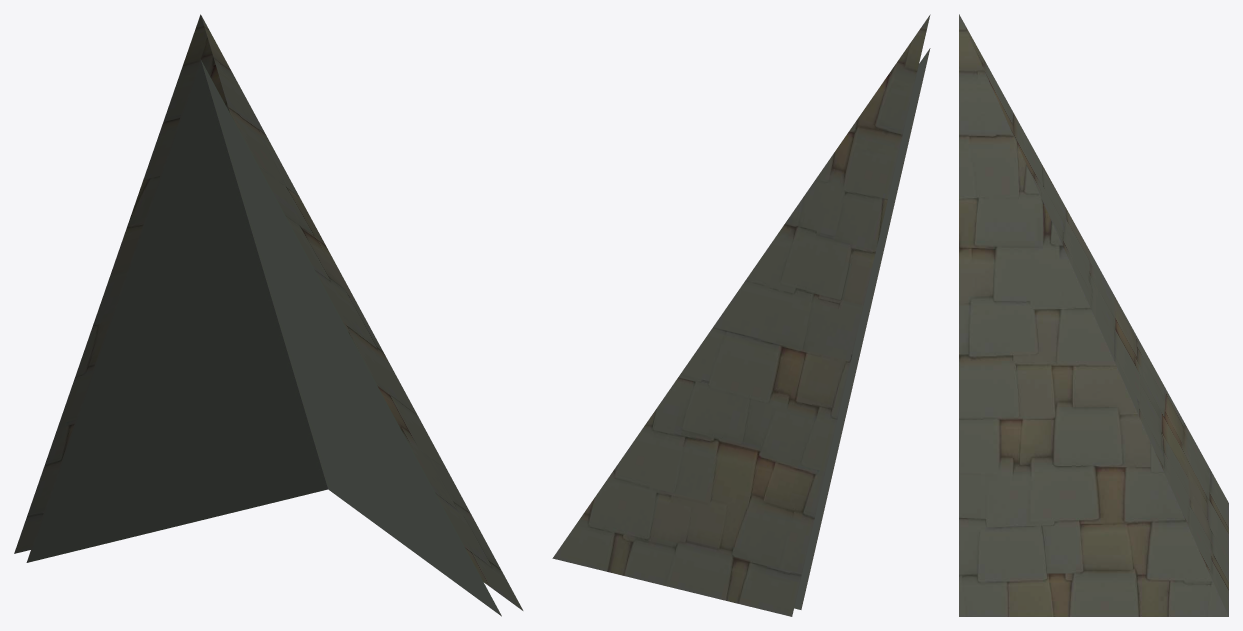
The model's file is ARC0510011.fbx.
3 renders of one model, left to right at view 1: azimuth 30°, elevation 25°; view 2: azimuth 150°, elevation 25°; view 3: azimuth 270°, elevation 25°, orthographic. The views are drawn at different scales.
Parts seen in each view (by area): view 1: smARC0510011; view 2: smARC0510011; view 3: smARC0510011.
Boxes of the visible parts, <box> form: smARC0510011: <box>14,14,523,616</box>; smARC0510011: <box>552,14,930,616</box>; smARC0510011: <box>959,14,1228,616</box>.
Size of the model in its own units: 150 by 300 by 150.
Materials: 1 (1 with a texture image).
